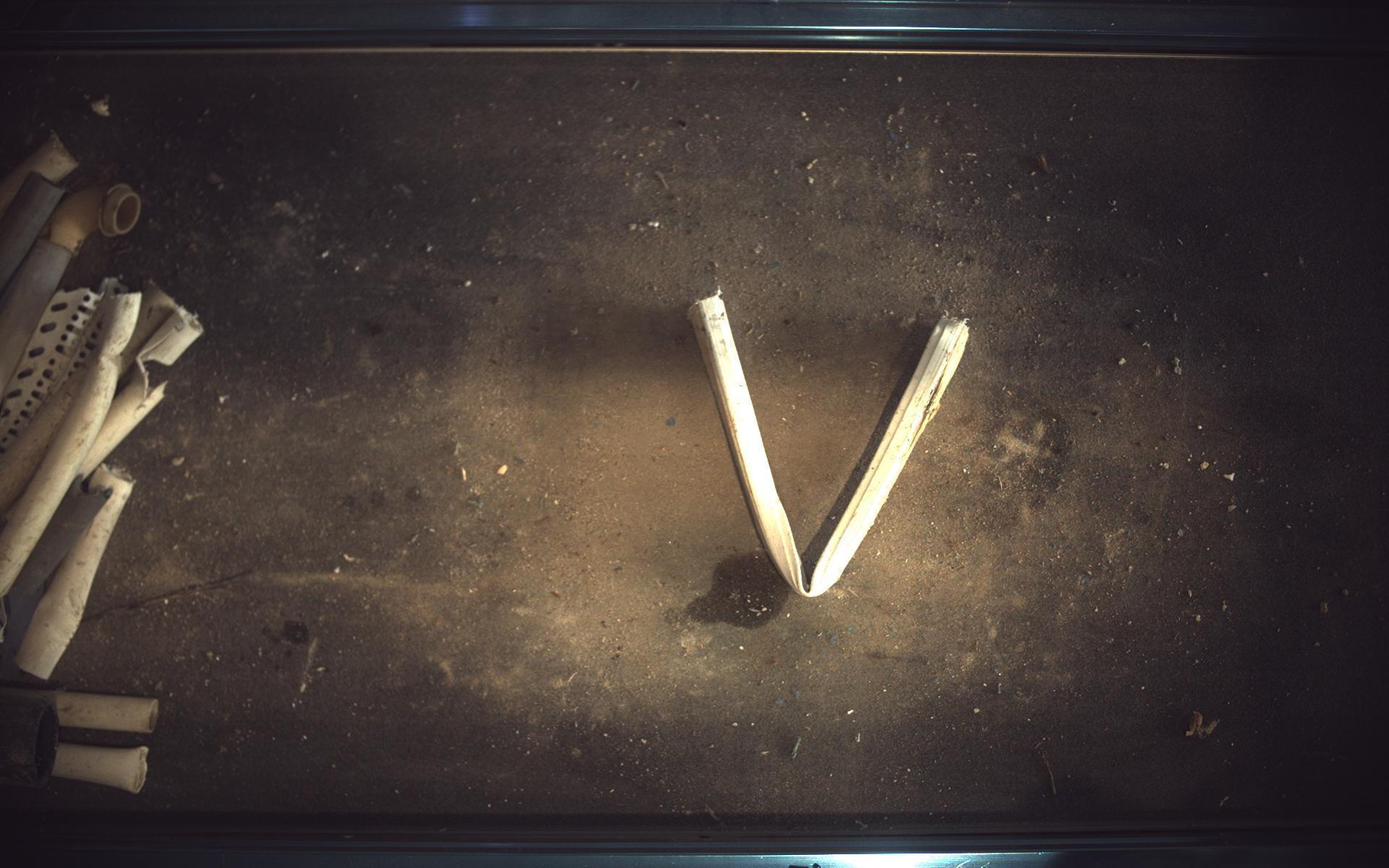pipes: (1, 183, 140, 396), (14, 465, 132, 681), (78, 305, 203, 477), (1, 362, 83, 514), (1, 171, 64, 294), (116, 279, 180, 386), (1, 692, 157, 735), (1, 132, 77, 217), (1, 691, 57, 789), (50, 746, 148, 795)
plastic: (690, 295, 971, 597), (1, 293, 140, 599), (1, 278, 124, 454), (6, 478, 106, 598)
